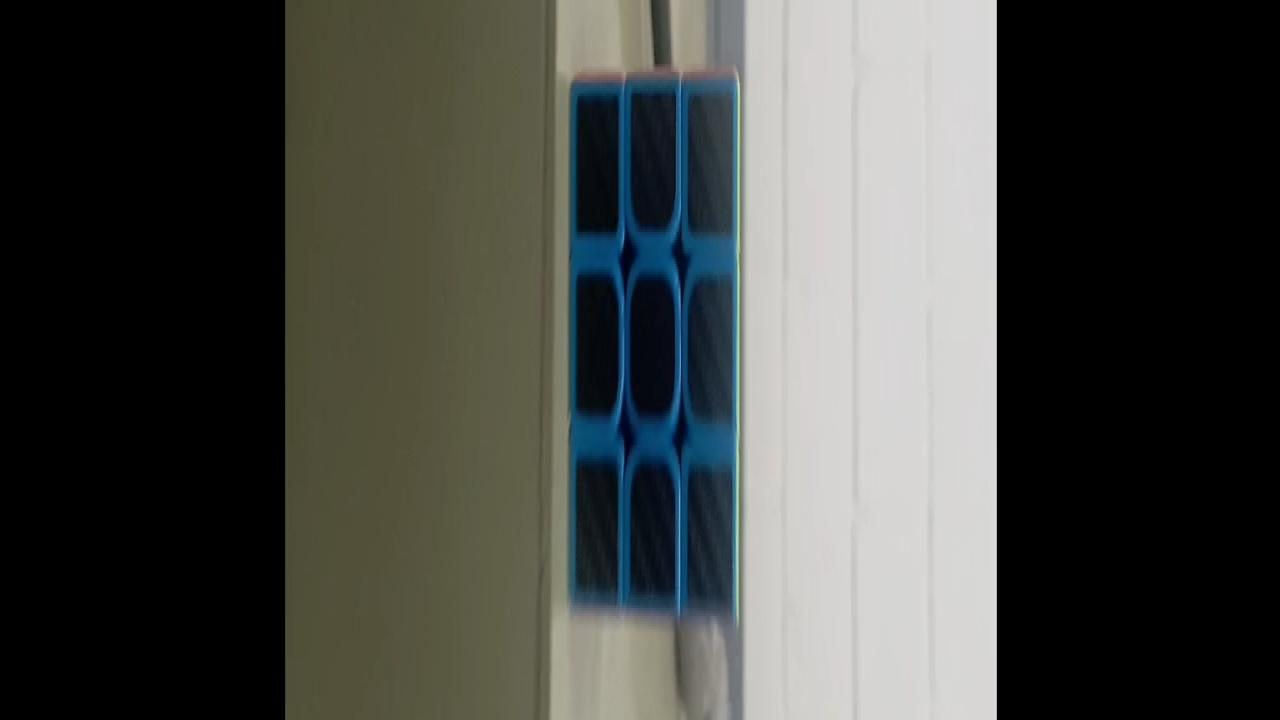Cube: (566, 62, 742, 630)
